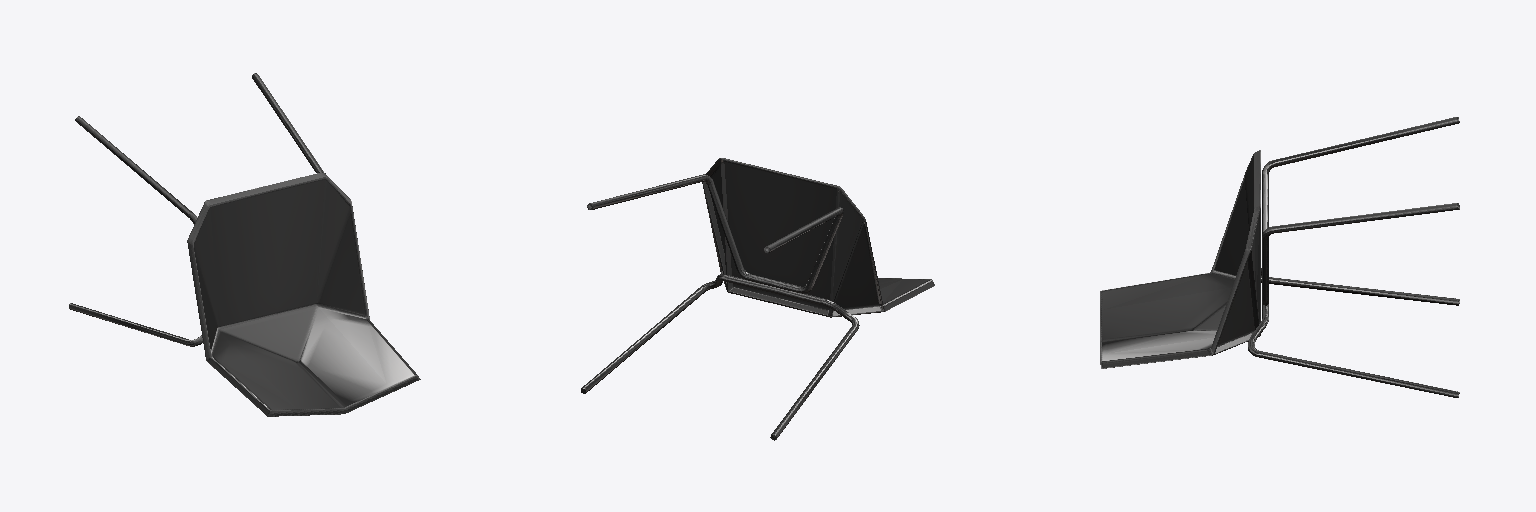
3 renders of one model, left to right at view 1: azimuth 30°, elevation 25°; view 2: azimuth 150°, elevation 25°; view 3: azimuth 270°, elevation 25°, orthographic.
Size of the model in its own units: 0.5423 by 0.5065 by 0.8604.
Materials: 1 (1 with a texture image).